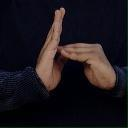hand: (56, 42, 116, 90), (34, 6, 66, 91)
